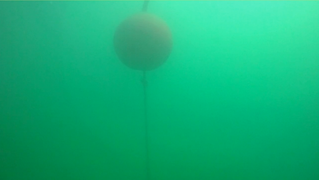buoy: (112, 11, 173, 71)
